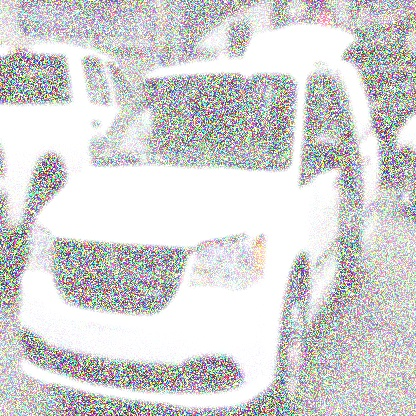Vehicle: (19, 25, 382, 414)
